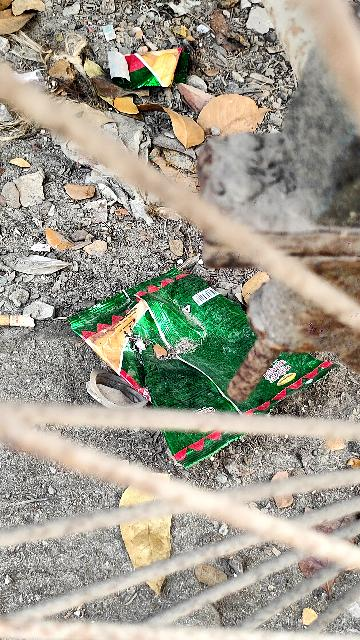packet: (62, 218, 340, 500)
